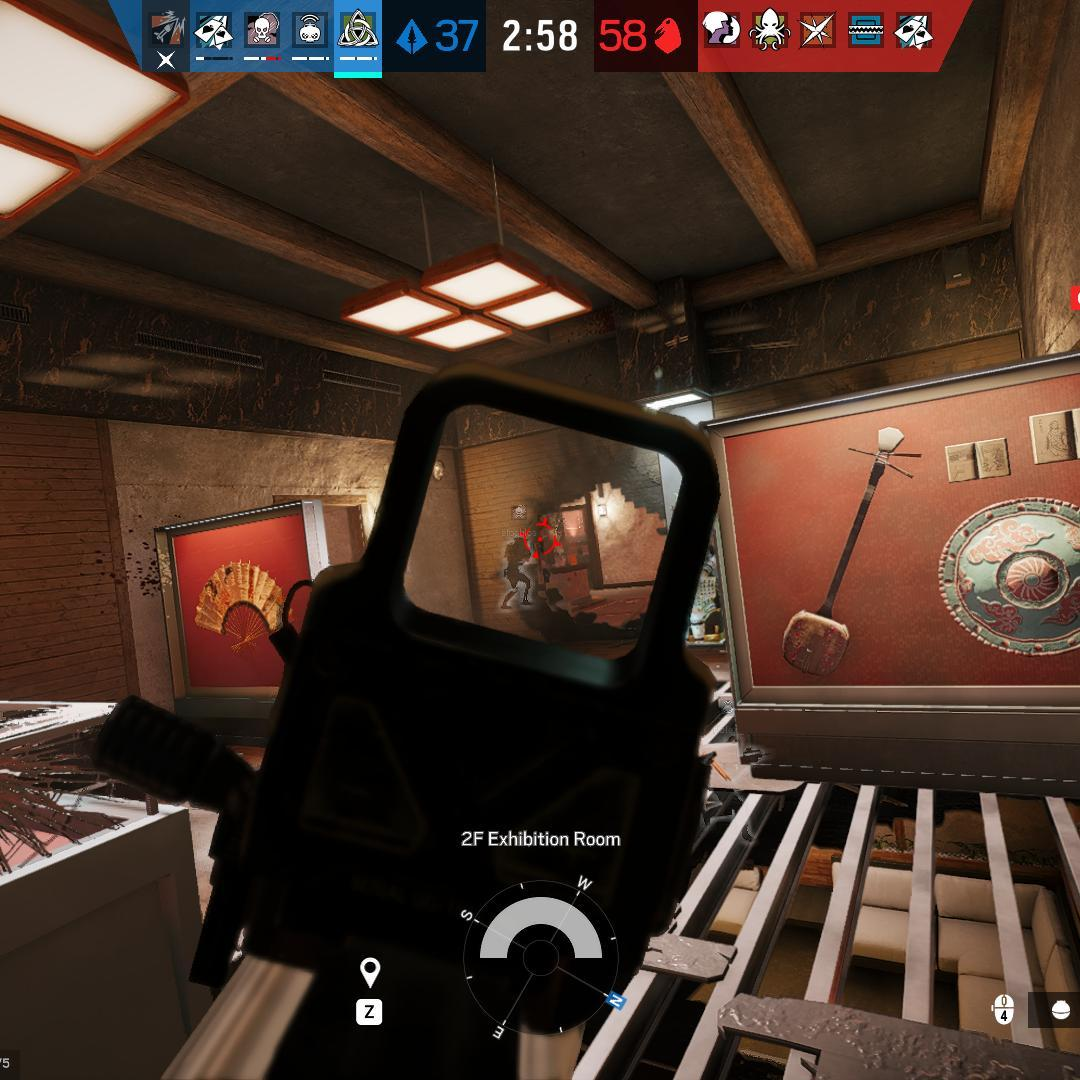Friend_label: (493, 503, 541, 537)
